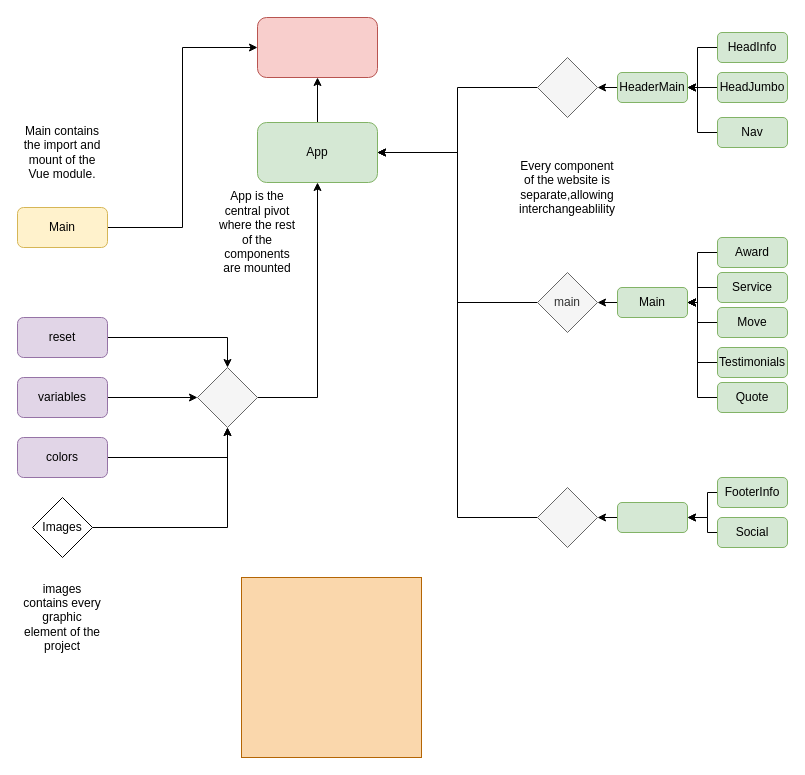
Image size: 805x775. Some labels were removed from this diagram. The shapes that lost their labels are listed below. From the top down, each one's centre as x and y in pixels, then its label:
At pixel 317 47: "Index".
At pixel 567 87: "header".
At pixel 227 397: "styles".
At pixel 567 517: "footer".
At pixel 652 517: "FooterMain".
At pixel 331 667: "Navigation: Red=Html Green=Vue Purple=Sass Yellow=Js White=Folders".
